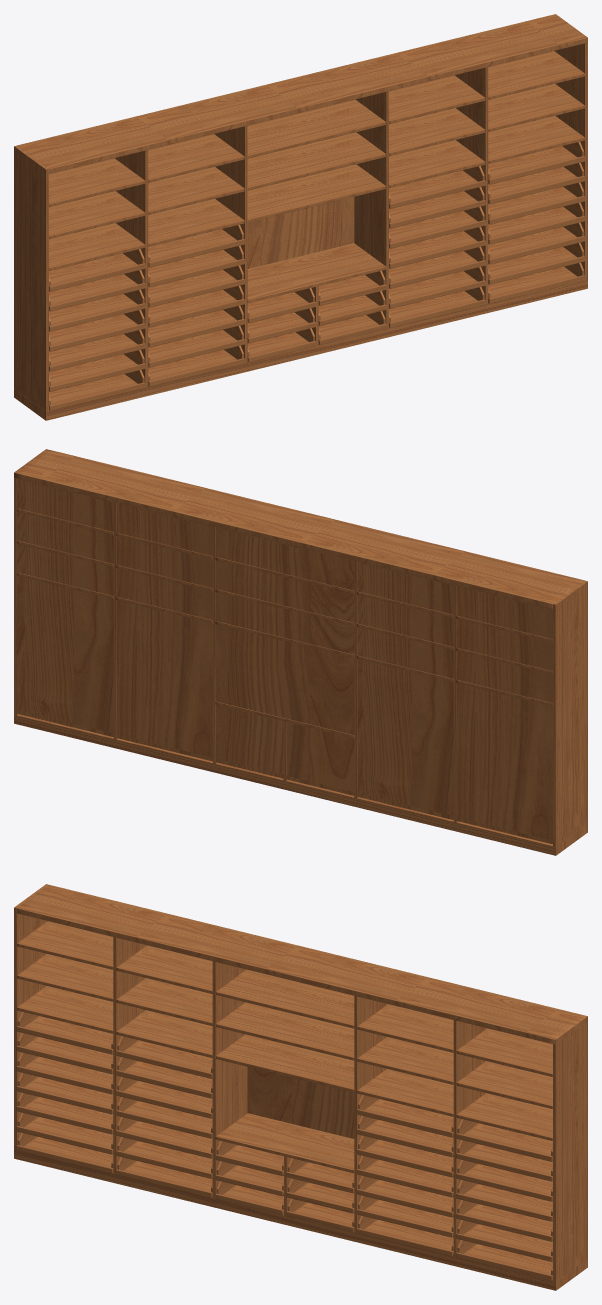
Rendered from tv_stand_showcase.gltf.
3 views of the same model, one above another, from view 1: azimuth 30°, elevation 25°; view 2: azimuth 150°, elevation 25°; view 3: azimuth 330°, elevation 25° (orthographic).
Parts seen in each view (by area): view 1: Object071_Material #2147444128_0, Object393_Material #2147444128_0, Box078_Material #2147444128_0, Plane9470, Object303_Material #2147444128_0, Object388_Material #2147444128_0, Object294_Material #2147444128_0, Object298_Material #2147444128_0, Object383_Material #2147444128_0, Object390_Material #2147444128_0, Object392_Material #2147444128_0, Object389_Material #2147444128_0 (+75 smaller); view 2: Plane9470, Object071_Material #2147444128_0, Object393_Material #2147444128_0, Box078_Material #2147444128_0, Object293_Material #2147444128_0, Object296_Material #2147444128_0, Object295_Material #2147444128_0, Object292_Material #2147444128_0, Object294_Material #2147444128_0, Object383_Material #2147444128_0, Object388_Material #2147444128_0, Object298_Material #2147444128_0 (+1 smaller); view 3: Object071_Material #2147444128_0, Object292_Material #2147444128_0, Box078_Material #2147444128_0, Plane9470, Object295_Material #2147444128_0, Object303_Material #2147444128_0, Object388_Material #2147444128_0, Object298_Material #2147444128_0, Object383_Material #2147444128_0, Object391_Material #2147444128_0, Object389_Material #2147444128_0, Object392_Material #2147444128_0 (+75 smaller).
Part boxes in pixels (x1=…): Object071_Material #2147444128_0: x1=17, y1=14, x2=587, y2=173; Object393_Material #2147444128_0: x1=14, y1=145, x2=48, y2=411; Box078_Material #2147444128_0: x1=14, y1=280, x2=587, y2=420; Plane9470: x1=247, y1=197, x2=354, y2=268; Object303_Material #2147444128_0: x1=247, y1=243, x2=386, y2=303; Object388_Material #2147444128_0: x1=247, y1=99, x2=385, y2=158; Object294_Material #2147444128_0: x1=354, y1=91, x2=388, y2=328; Object298_Material #2147444128_0: x1=247, y1=132, x2=385, y2=190; Object383_Material #2147444128_0: x1=247, y1=164, x2=385, y2=222; Object390_Material #2147444128_0: x1=488, y1=51, x2=584, y2=99; Object392_Material #2147444128_0: x1=148, y1=134, x2=244, y2=182; Object389_Material #2147444128_0: x1=389, y1=75, x2=485, y2=123; Plane9470: x1=17, y1=478, x2=552, y2=844; Object071_Material #2147444128_0: x1=14, y1=449, x2=584, y2=608; Object393_Material #2147444128_0: x1=553, y1=580, x2=587, y2=846; Box078_Material #2147444128_0: x1=14, y1=714, x2=587, y2=855; Object293_Material #2147444128_0: x1=113, y1=502, x2=117, y2=739; Object296_Material #2147444128_0: x1=453, y1=585, x2=457, y2=822; Object295_Material #2147444128_0: x1=354, y1=561, x2=358, y2=798; Object292_Material #2147444128_0: x1=14, y1=449, x2=47, y2=715; Object294_Material #2147444128_0: x1=213, y1=526, x2=216, y2=763; Object383_Material #2147444128_0: x1=215, y1=621, x2=354, y2=657; Object388_Material #2147444128_0: x1=215, y1=557, x2=354, y2=593; Object298_Material #2147444128_0: x1=215, y1=589, x2=354, y2=625; Object071_Material #2147444128_0: x1=17, y1=885, x2=586, y2=1044; Object292_Material #2147444128_0: x1=553, y1=1016, x2=587, y2=1281; Box078_Material #2147444128_0: x1=14, y1=1150, x2=587, y2=1290; Plane9470: x1=247, y1=1067, x2=354, y2=1138; Object295_Material #2147444128_0: x1=212, y1=961, x2=247, y2=1198; Object303_Material #2147444128_0: x1=215, y1=1113, x2=354, y2=1173; Object388_Material #2147444128_0: x1=216, y1=969, x2=354, y2=1028; Object298_Material #2147444128_0: x1=216, y1=1002, x2=354, y2=1060; Object383_Material #2147444128_0: x1=216, y1=1034, x2=354, y2=1092; Object391_Material #2147444128_0: x1=17, y1=921, x2=113, y2=969; Object389_Material #2147444128_0: x1=357, y1=1004, x2=453, y2=1052; Object392_Material #2147444128_0: x1=116, y1=945, x2=212, y2=993.
Bounding box in the file's own units: 5647 × 2501 × 592.
Materials: 3 (2 with a texture image).
